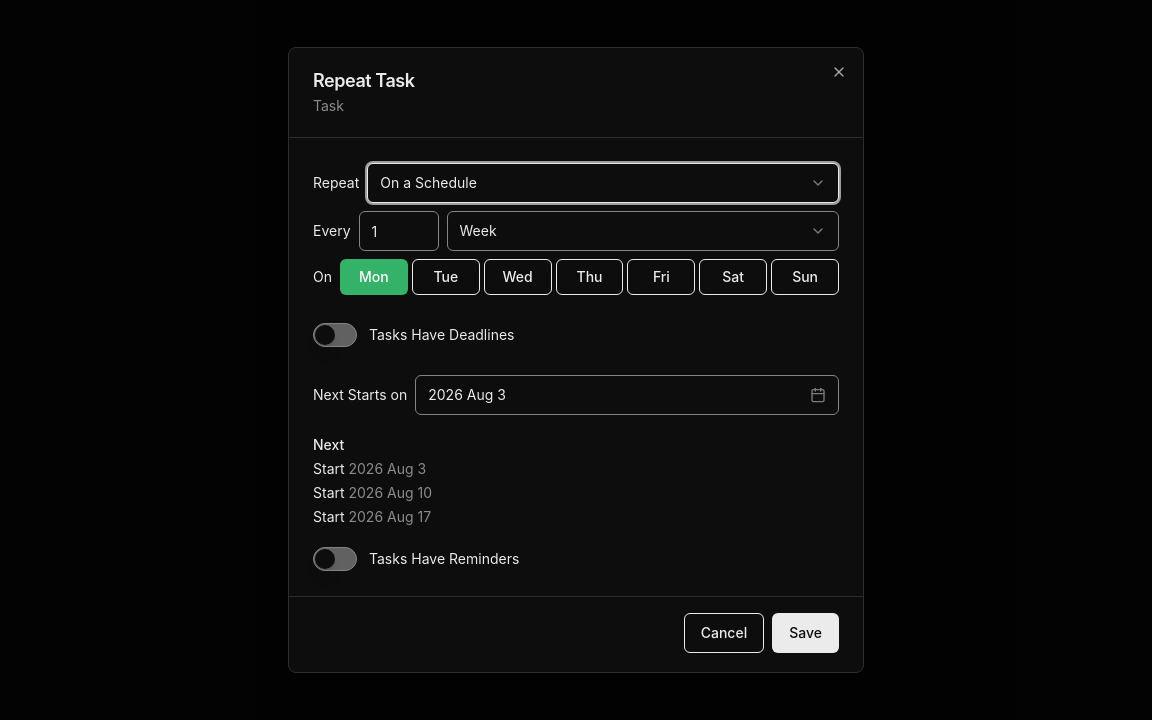
Test: TaskRepeatDialog › uses the Start picker reminder field and hour-menu paradigms
Later steps or results of the test are not shown.
Step 1. Click the switch named "Tasks Have Reminders" → [335, 559], box [313, 547, 357, 571]
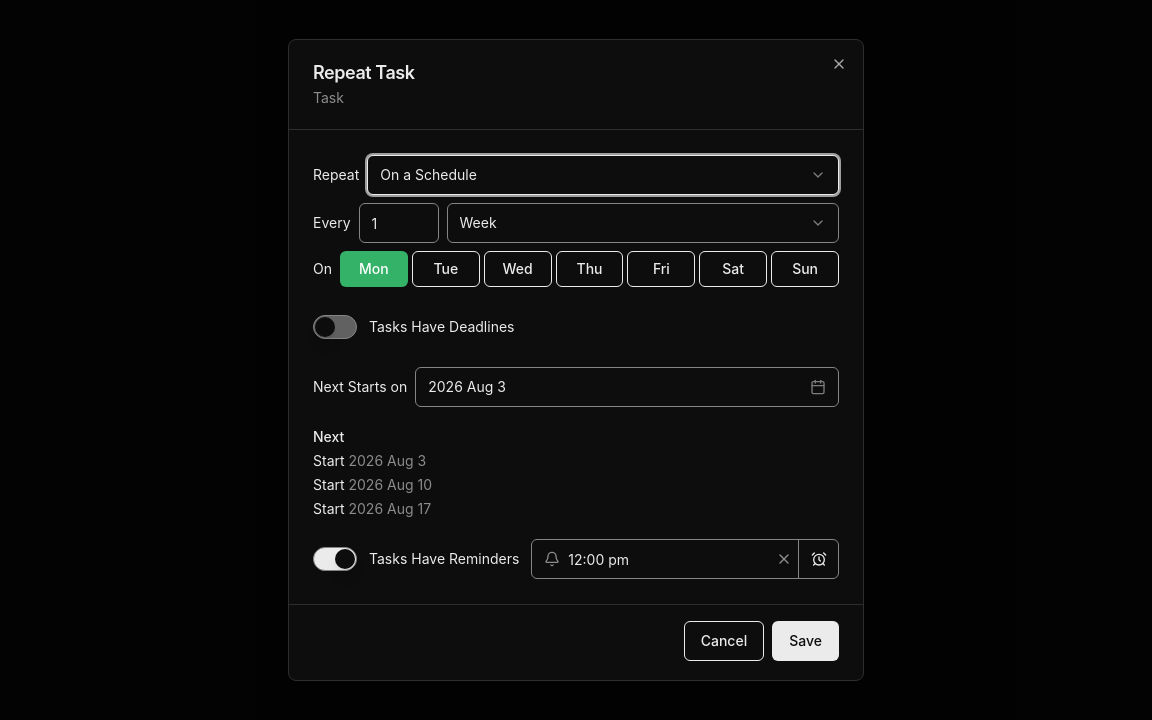
expect the field named "Reminder Time" holds "12:00 pm": met, box [532, 539, 770, 579]
expect the 4th element named "Reminder Time" is shown: met, box [531, 539, 839, 579]
expect the button named "Choose Reminder Hour" is shown: met, box [798, 540, 838, 578]
